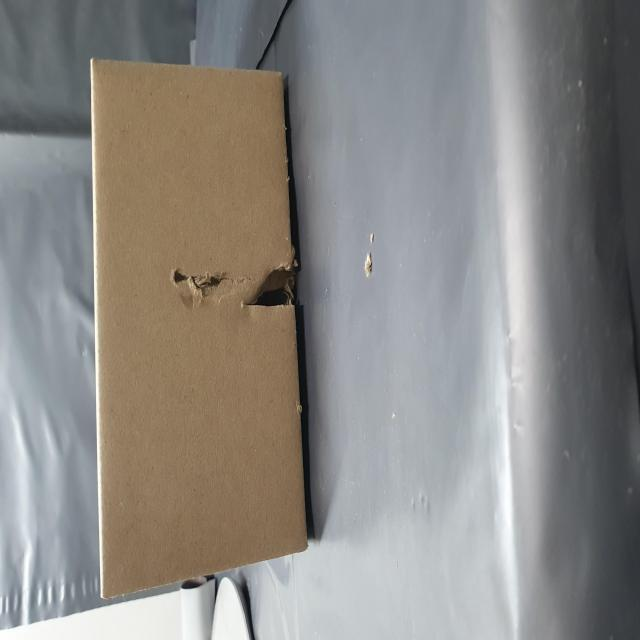damaged: (178, 302, 220, 537)
